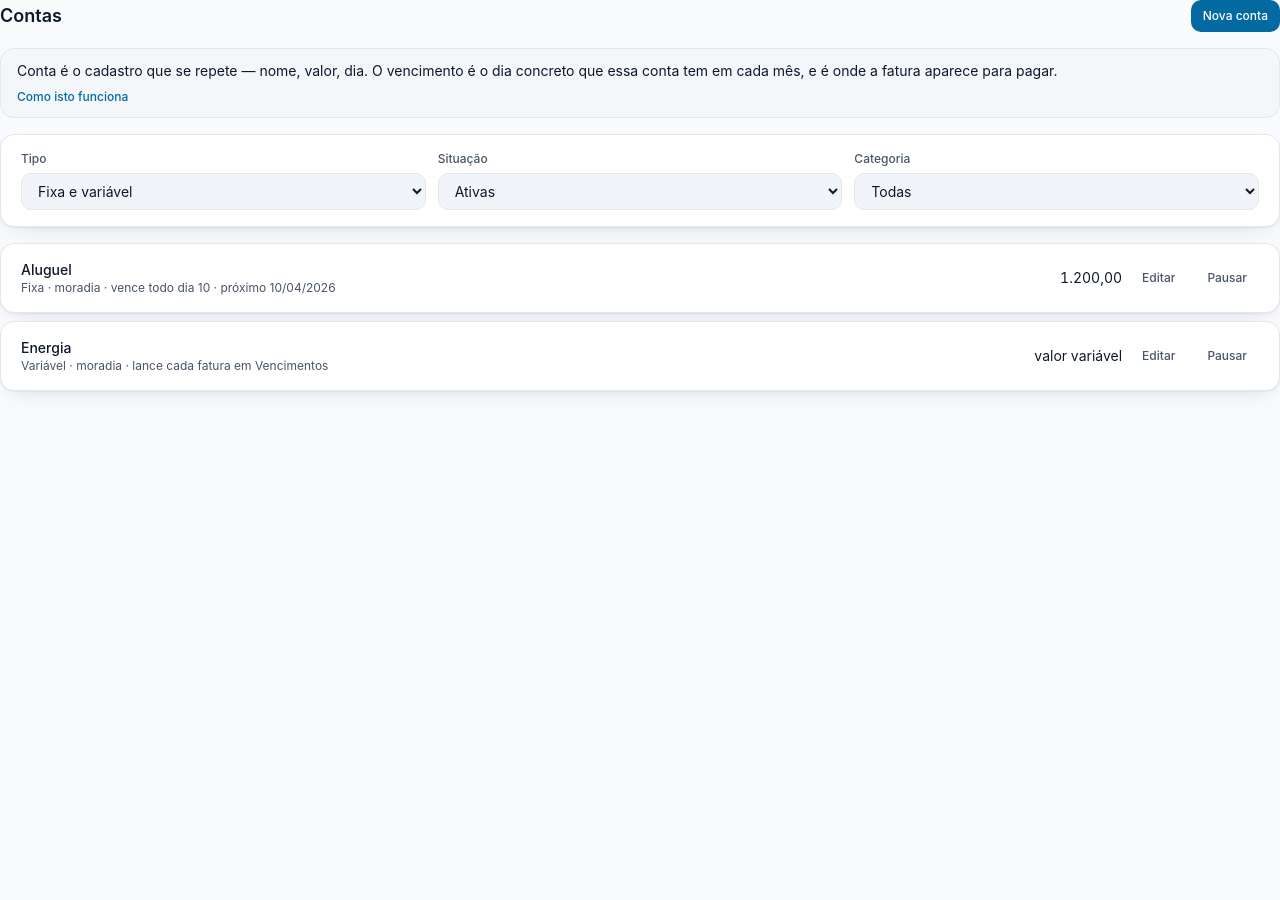
Test: BillListPage › pinta o 422 por cima do campo que o backend recusou
Check: the text "Aluguel" is shown, box x1=21 y1=261 x2=72 y2=278
Click the button "Nova conta": (1235, 16) x1=1191 y1=0 x2=1279 y2=32
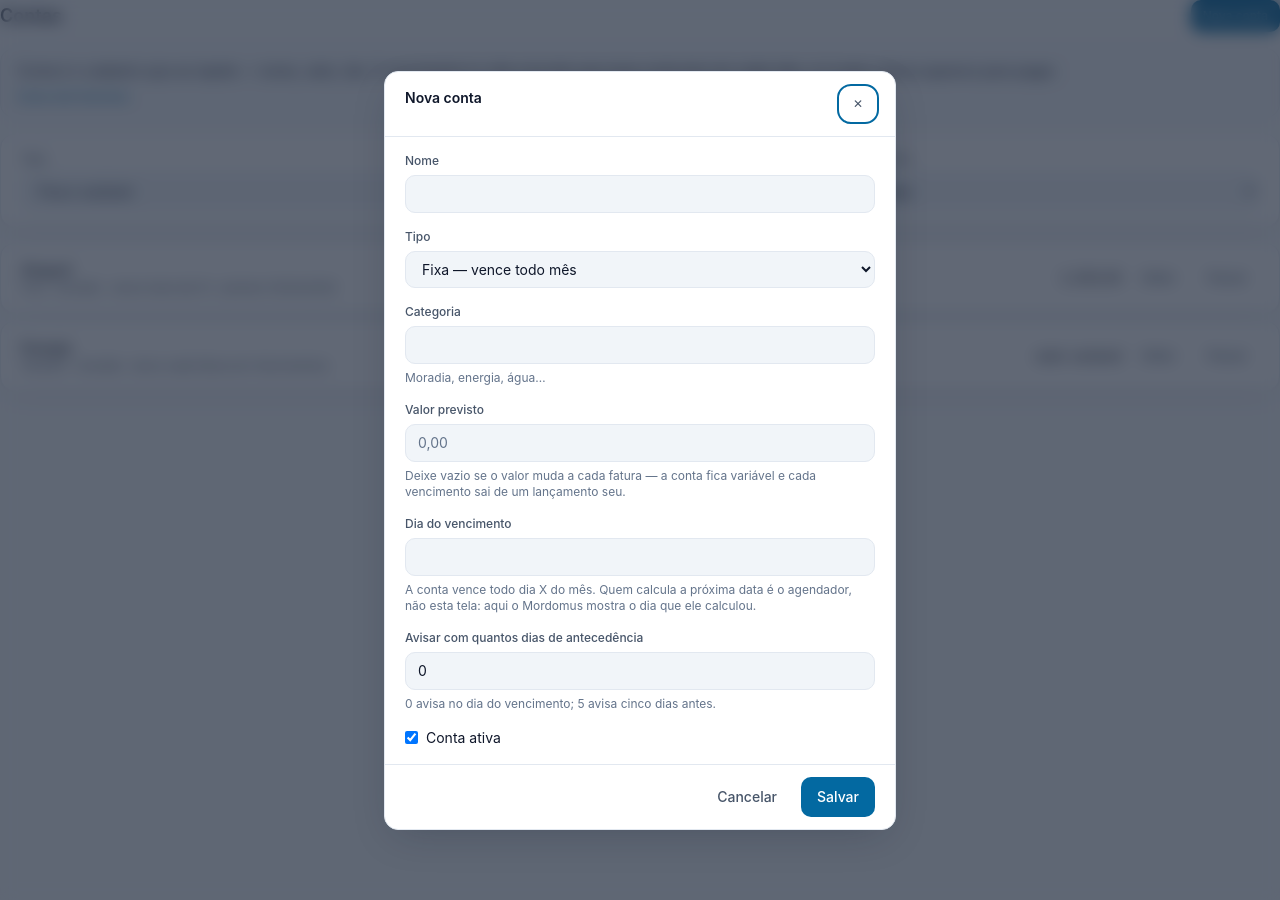
In the field labelled "Nome": (640, 194) x1=405 y1=174 x2=875 y2=212, type "Internet"
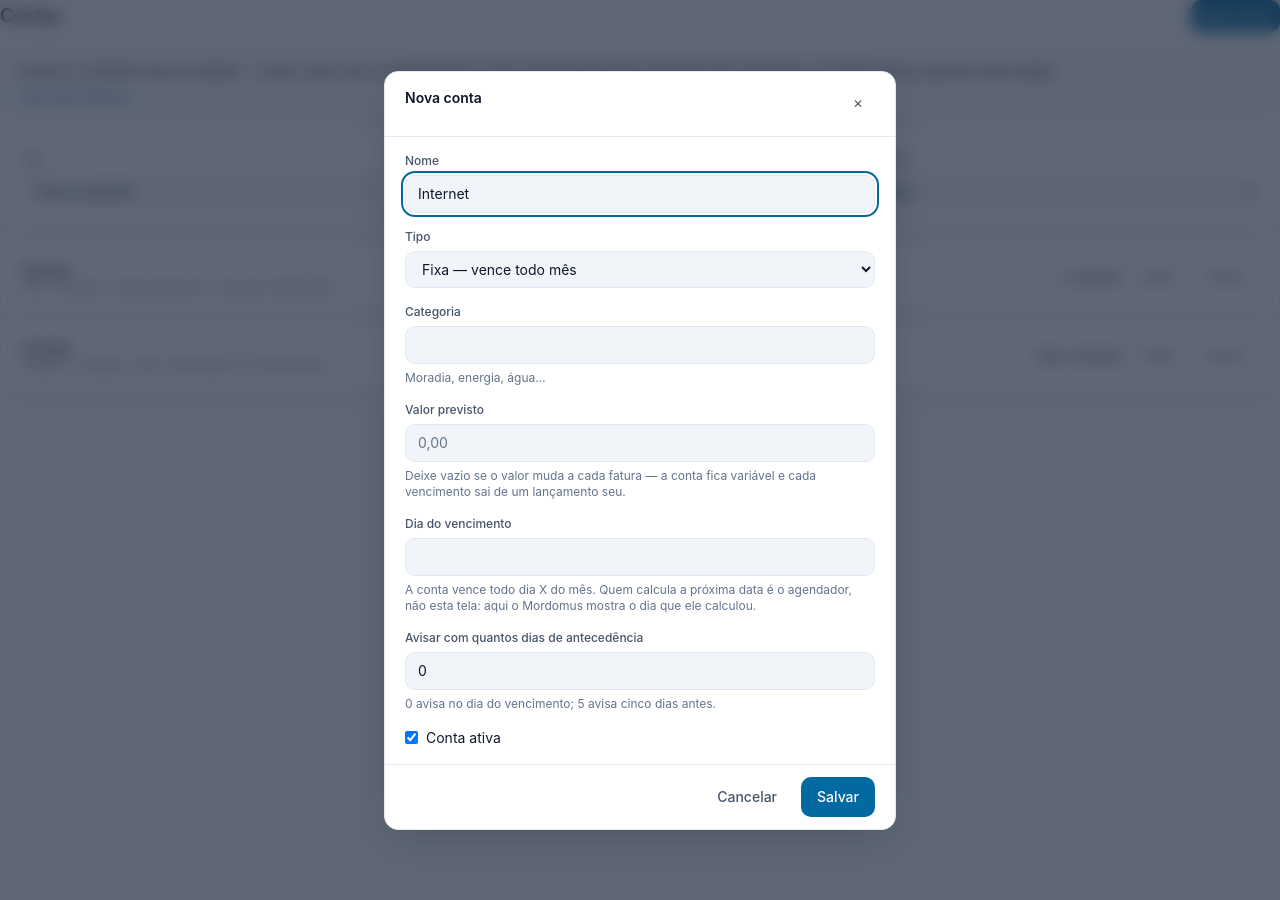
Click the button "Salvar": (838, 796) x1=801 y1=776 x2=875 y2=816
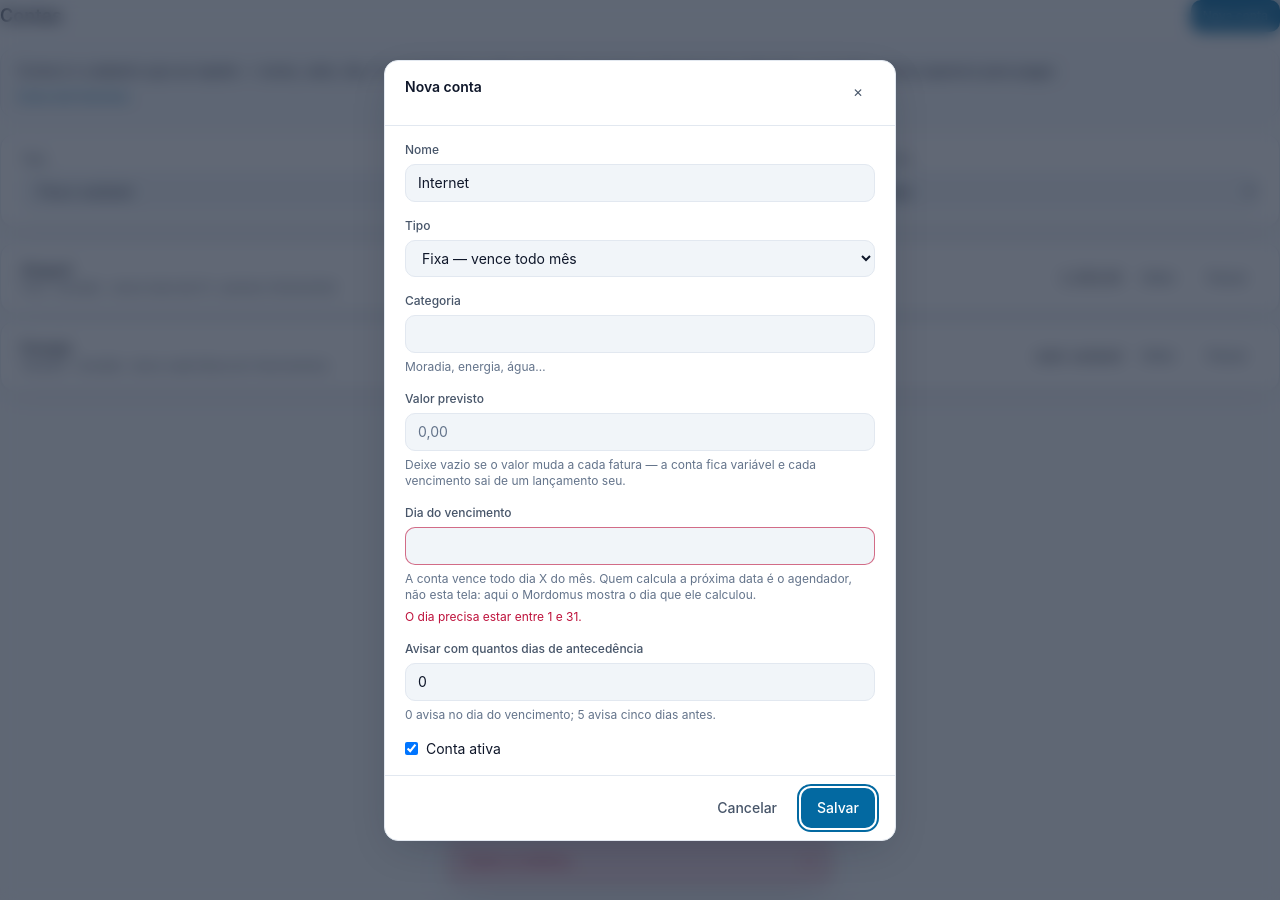
Check: the text "O dia precisa estar entre 1 e 31." is shown, box x1=405 y1=608 x2=582 y2=624
